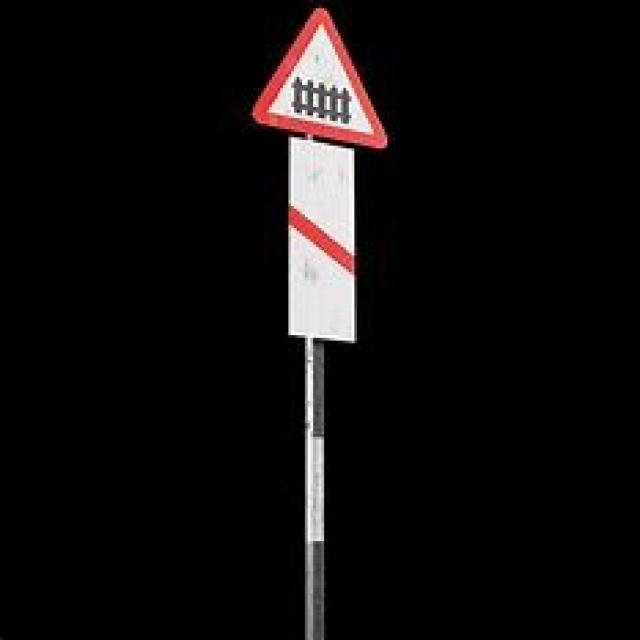guarded level crossing: (254, 5, 395, 159)
